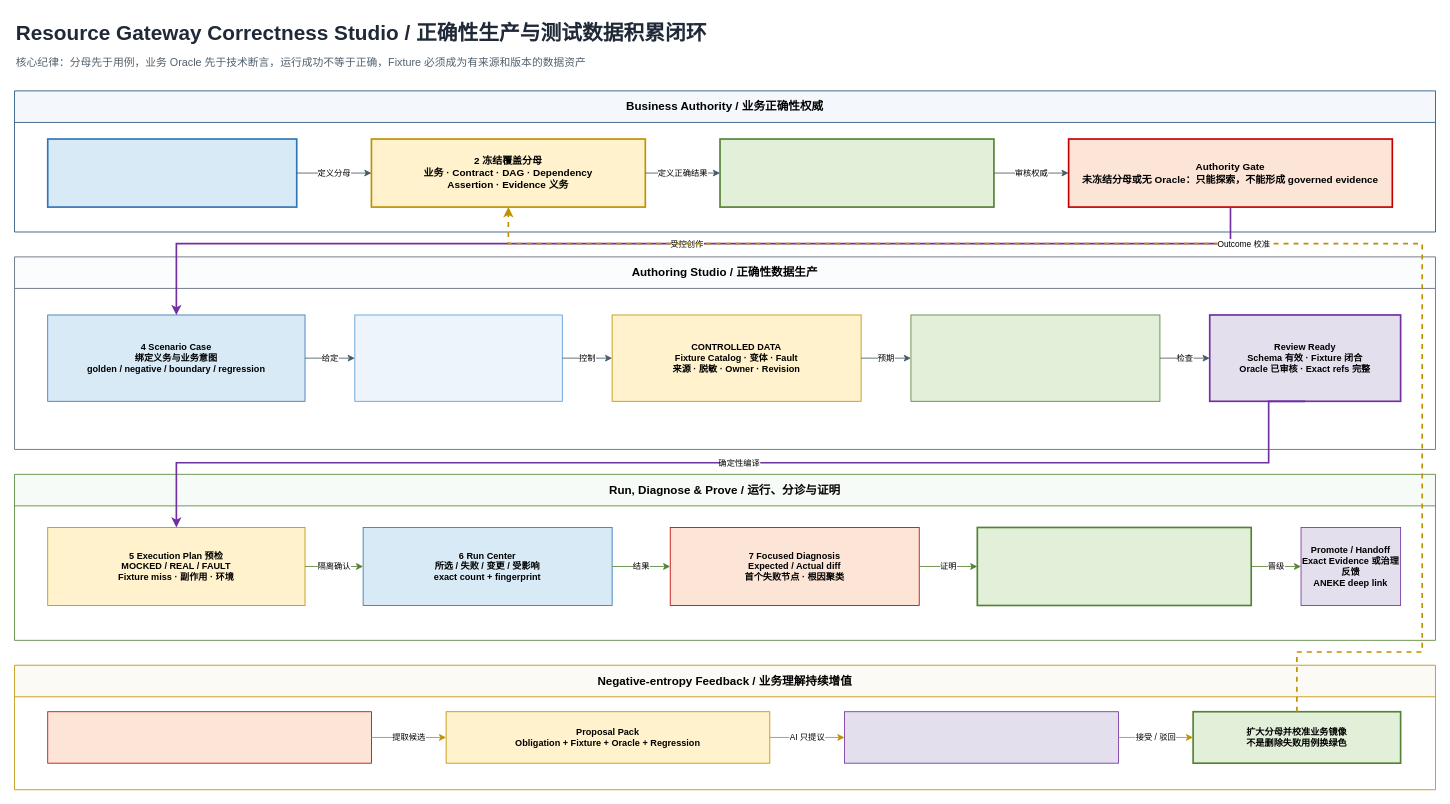
The diagram is 1450 pixels wide and 804 high, and some of its shapes have lost their labels. Each missing label, with the centre of its shape:
1 业务意图 服务目标 · 风险 · Owner 政策 / SOP / Outcome 依据: the point at 171,173
3 Business Oracle 什么结果正确 · 为什么正确 谁审核 · 何时失效: the point at 856,173
8 Five-axis Evidence 执行 · 断言 · 覆盖 · 证据 · 门禁 不得汇总成模糊的“通过”: the point at 1114,566
EXPECTED Business Oracle + Assertions 输出 · 错误 · 状态 · 调用 · 副作用: the point at 1035,357
GIVEN 身份 · 状态 · Graph input Context · 逻辑时间: the point at 458,357
Human Review 来源 · 置信度 · Diff · Owner 决策: the point at 981,737
事故 · 客诉 · 人工 override · Outcome 偏差 · Policy 变化: the point at 209,737
